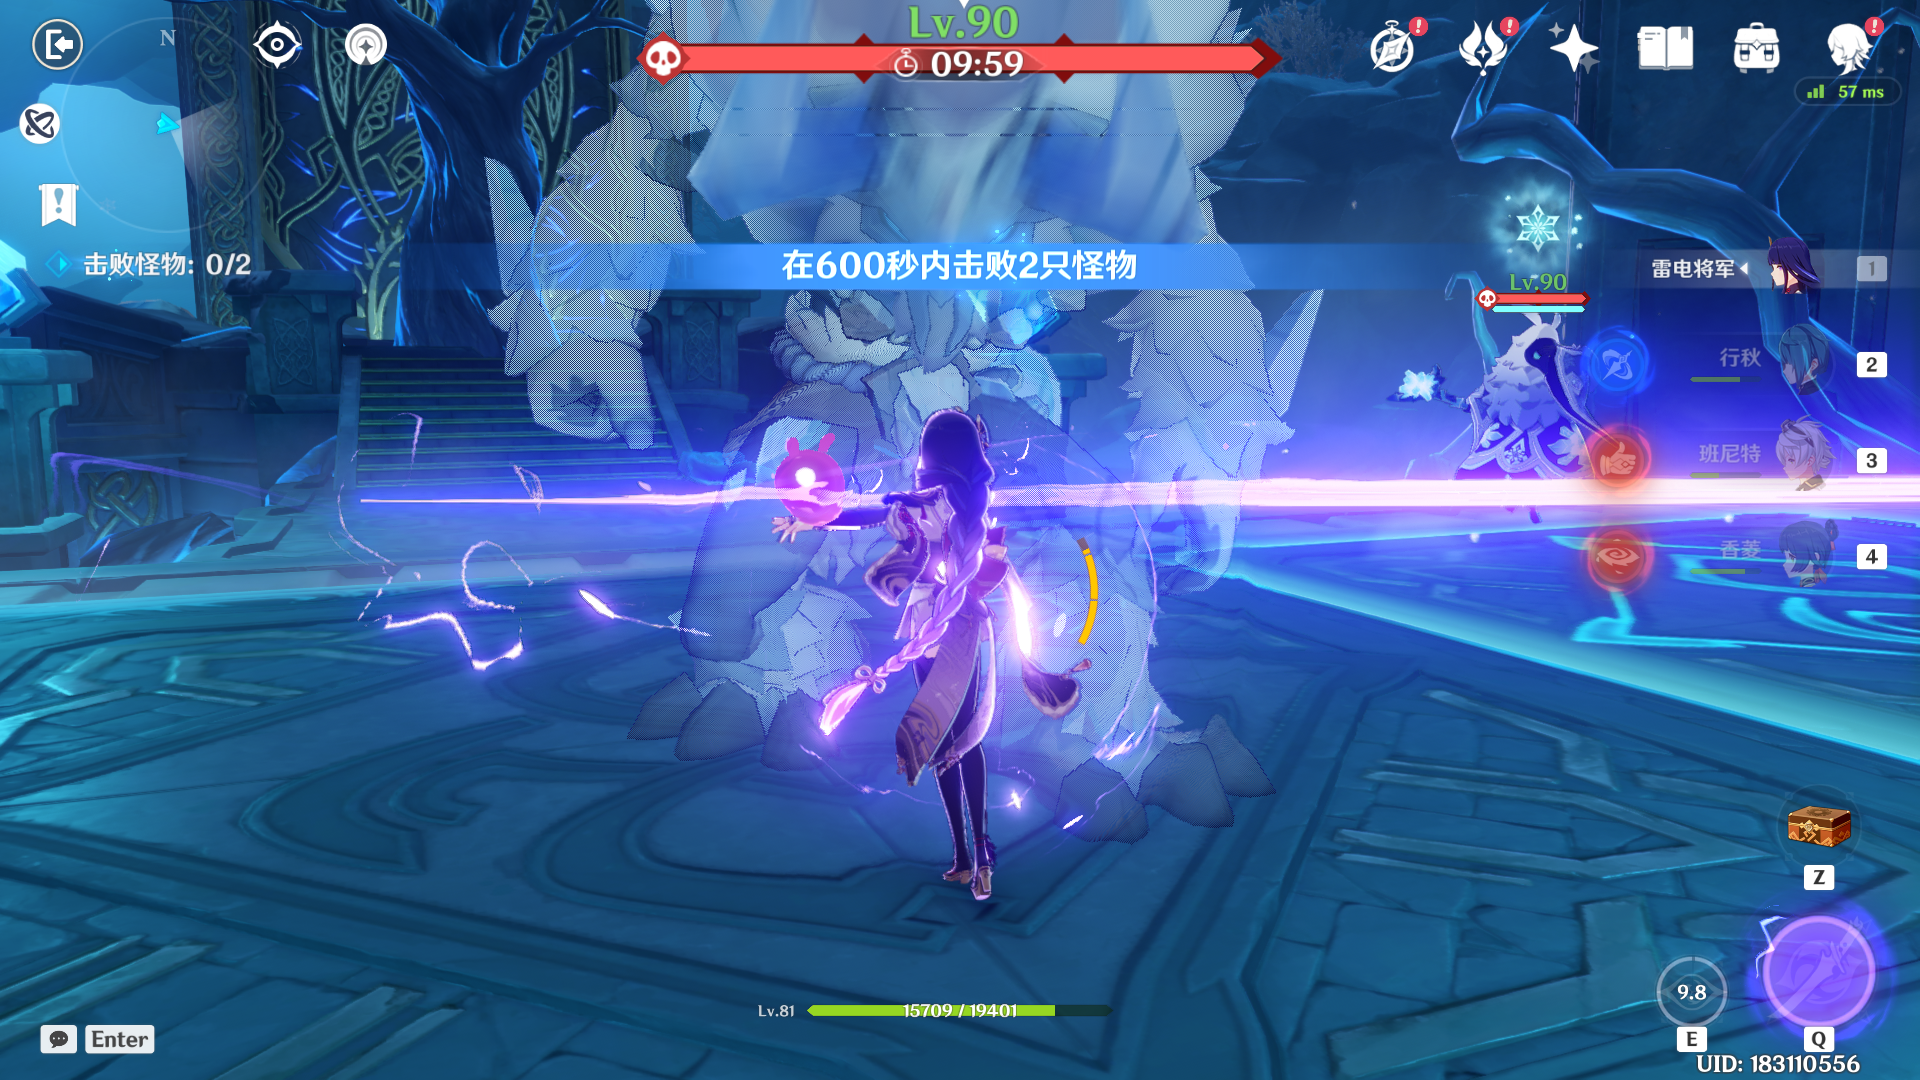bosshili: (436, 1, 1346, 872)
caster: (1395, 262, 1652, 559)
character: (829, 378, 1108, 906)
